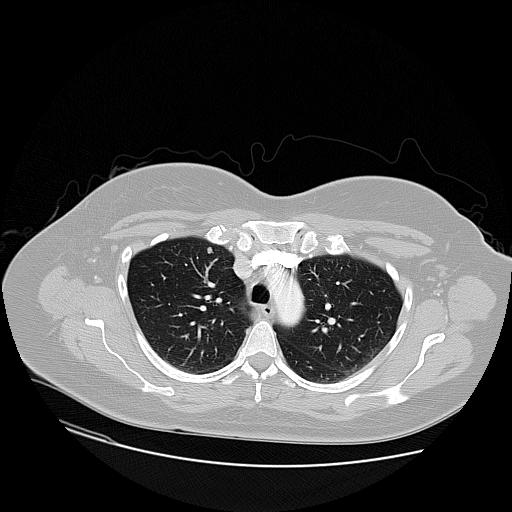nodule: (204, 245, 215, 256)
